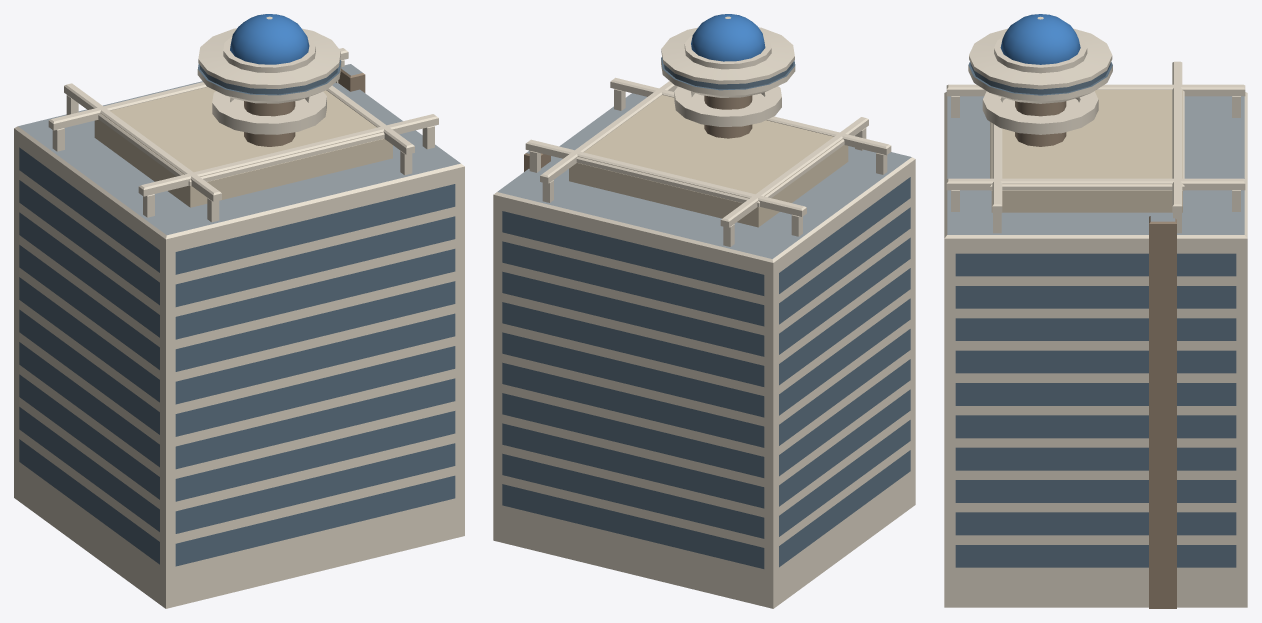
The model's file is atl-hyatt-regency.glb.
3 renders of one model, left to right at view 1: azimuth 30°, elevation 25°; view 2: azimuth 150°, elevation 25°; view 3: azimuth 270°, elevation 25°, orthographic. The views are drawn at different scales.
Visible parts, largest first — view 1: Hyatt Regency Atlanta; view 2: Hyatt Regency Atlanta; view 3: Hyatt Regency Atlanta.
Part boxes in pixels (left/top/right/bottom): Hyatt Regency Atlanta: left=14, top=14, right=464, bottom=608; Hyatt Regency Atlanta: left=493, top=14, right=915, bottom=608; Hyatt Regency Atlanta: left=944, top=14, right=1247, bottom=608.
Size of the model in its own units: 62.65 by 103 by 54.6.
